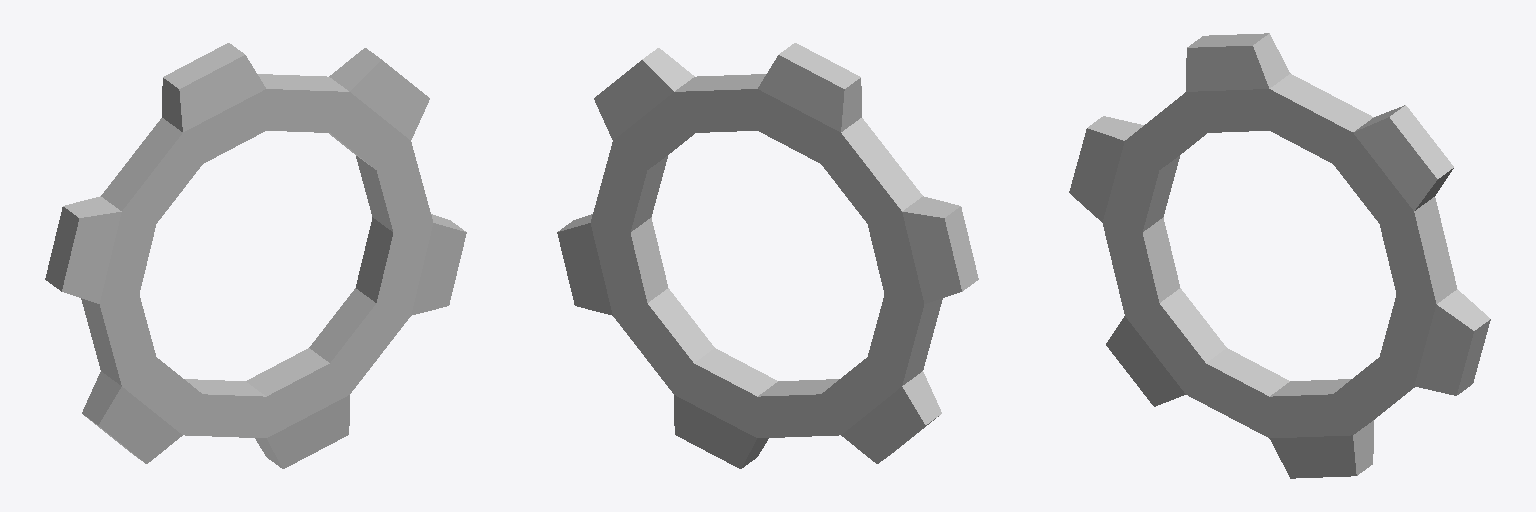
The model's file is Gear.obj.
The picture shows the model from 3 angles: view 1: azimuth 30°, elevation 25°; view 2: azimuth 150°, elevation 25°; view 3: azimuth 330°, elevation 25°; orthographic projection.
Parts seen in each view (by area): view 1: Gear; view 2: Gear; view 3: Gear.
Part boxes in pixels (left/top/right/bottom): Gear: left=45, top=43, right=466, bottom=468; Gear: left=557, top=43, right=978, bottom=468; Gear: left=1069, top=33, right=1490, bottom=478.
Size of the model in its own units: 20.8 by 20.8 by 1.87.